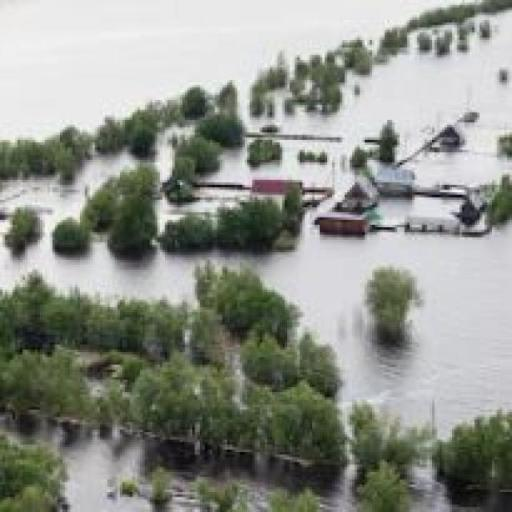flood: (0, 0, 512, 441), (0, 416, 360, 512), (410, 454, 512, 512), (150, 121, 193, 184)
house: (316, 209, 370, 240), (248, 178, 303, 206), (345, 173, 379, 208)
